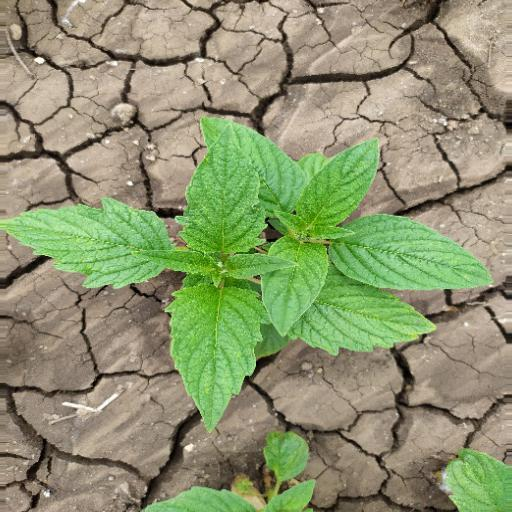crop: (1, 107, 502, 432)
